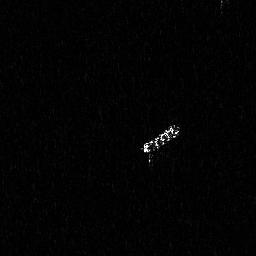ship: (140, 122, 182, 172)
